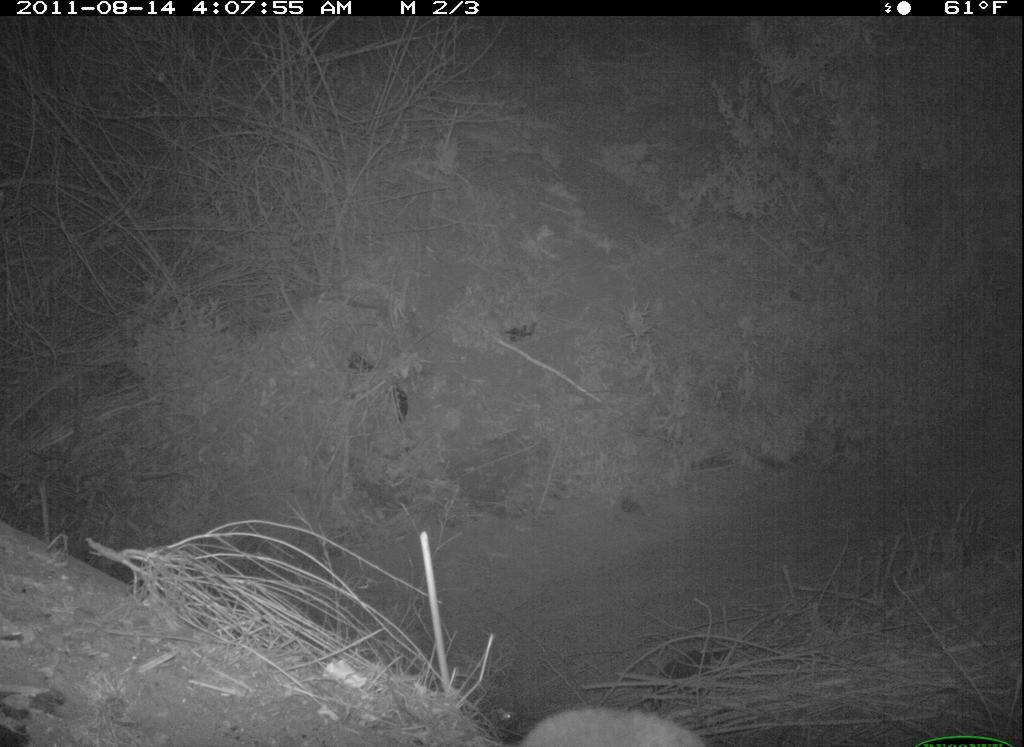cat: (509, 705, 717, 747)
